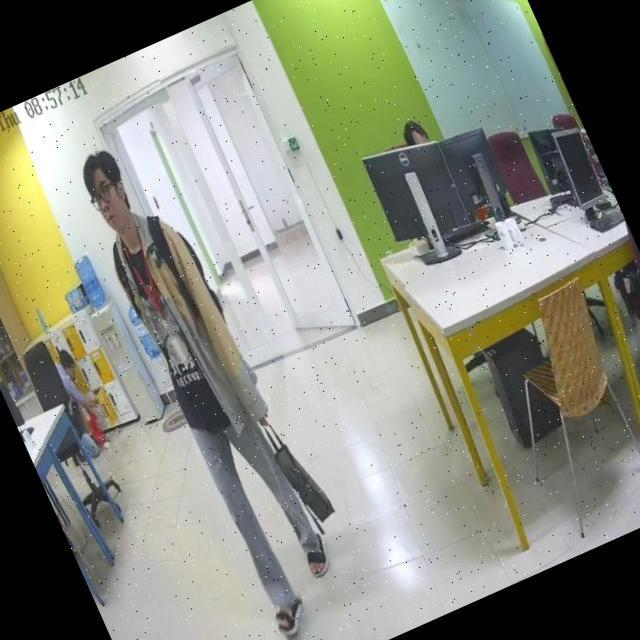person: (68, 134, 361, 640)
